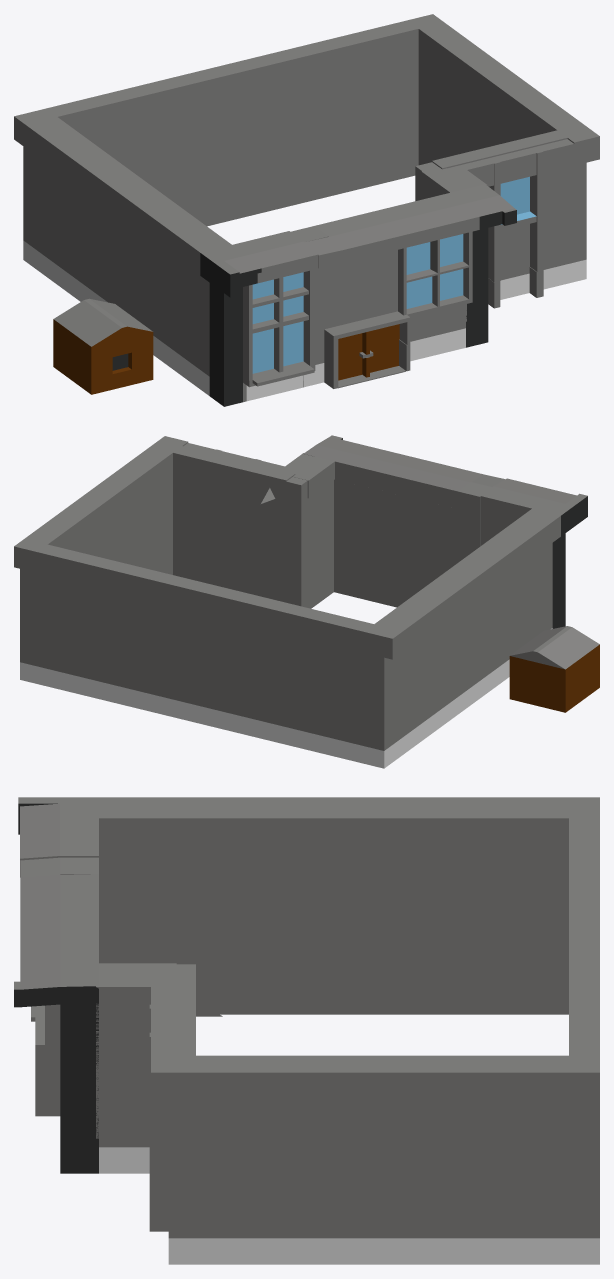
Rendered from Budynek z buda.fbx.
The picture shows the model from 3 angles, top to bottom: view 1: azimuth 30°, elevation 25°; view 2: azimuth 150°, elevation 25°; view 3: azimuth 270°, elevation 25°; orthographic projection. The views are drawn at different scales.
Parts seen in each view (by area): view 1: Cube; view 2: Cube; view 3: Cube.
Part boxes in pixels (x1=…): Cube: x1=14, y1=14, x2=599, y2=406; Cube: x1=14, y1=435, x2=599, y2=768; Cube: x1=14, y1=797, x2=599, y2=1264.
Bounding box in the file's own units: 3981 × 1136 × 3034.
